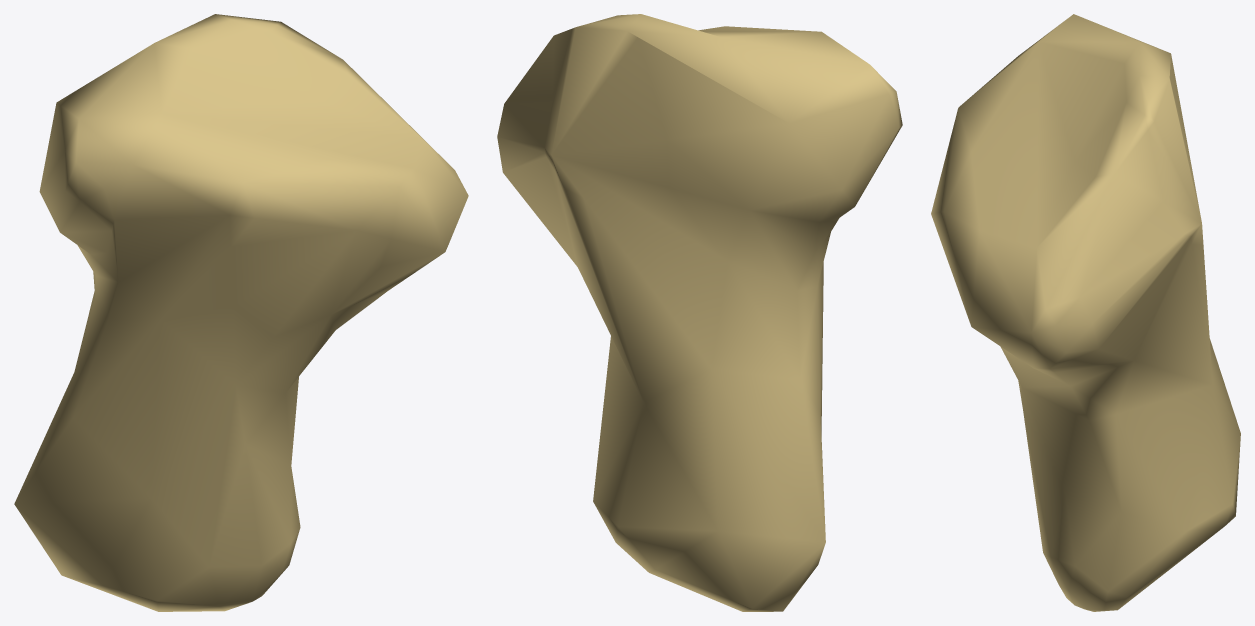
3 views of the same model, side by side, from view 1: azimuth 30°, elevation 25°; view 2: azimuth 150°, elevation 25°; view 3: azimuth 270°, elevation 25° (orthographic). The views are drawn at different scales.
Parts seen in each view (by area): view 1: 右侧第五趾远节趾骨; view 2: 右侧第五趾远节趾骨; view 3: 右侧第五趾远节趾骨.
Part boxes in pixels (x1,y1,x2,y2): 右侧第五趾远节趾骨: (14,14,468,611); 右侧第五趾远节趾骨: (497,14,902,611); 右侧第五趾远节趾骨: (931,14,1240,611).
Size of the model in its own units: 0.0116 by 0.0161 by 0.0083.
